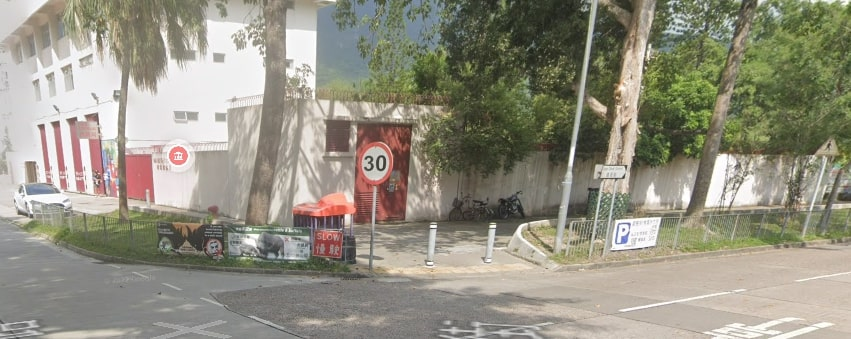Speed Limit: (359, 137, 396, 187)
